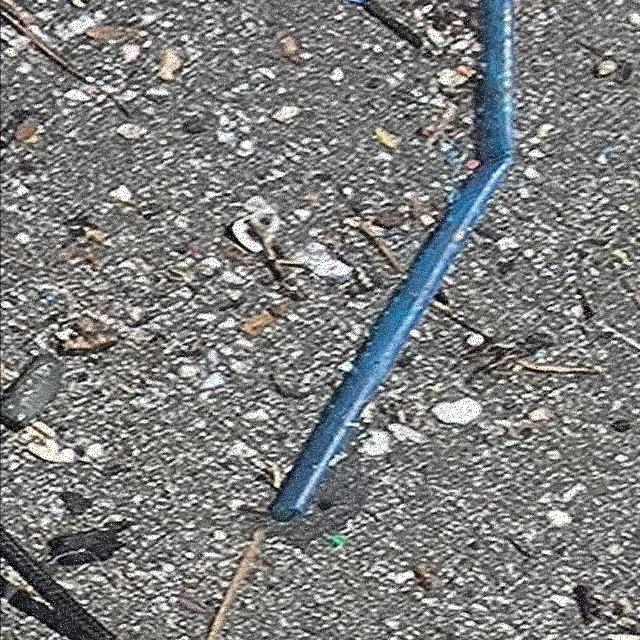plastic_waste: (273, 1, 518, 517)
